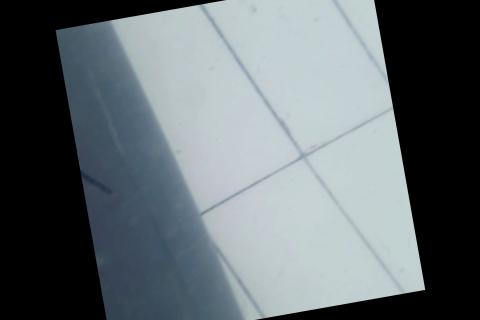keretakan: (77, 152, 115, 199)
